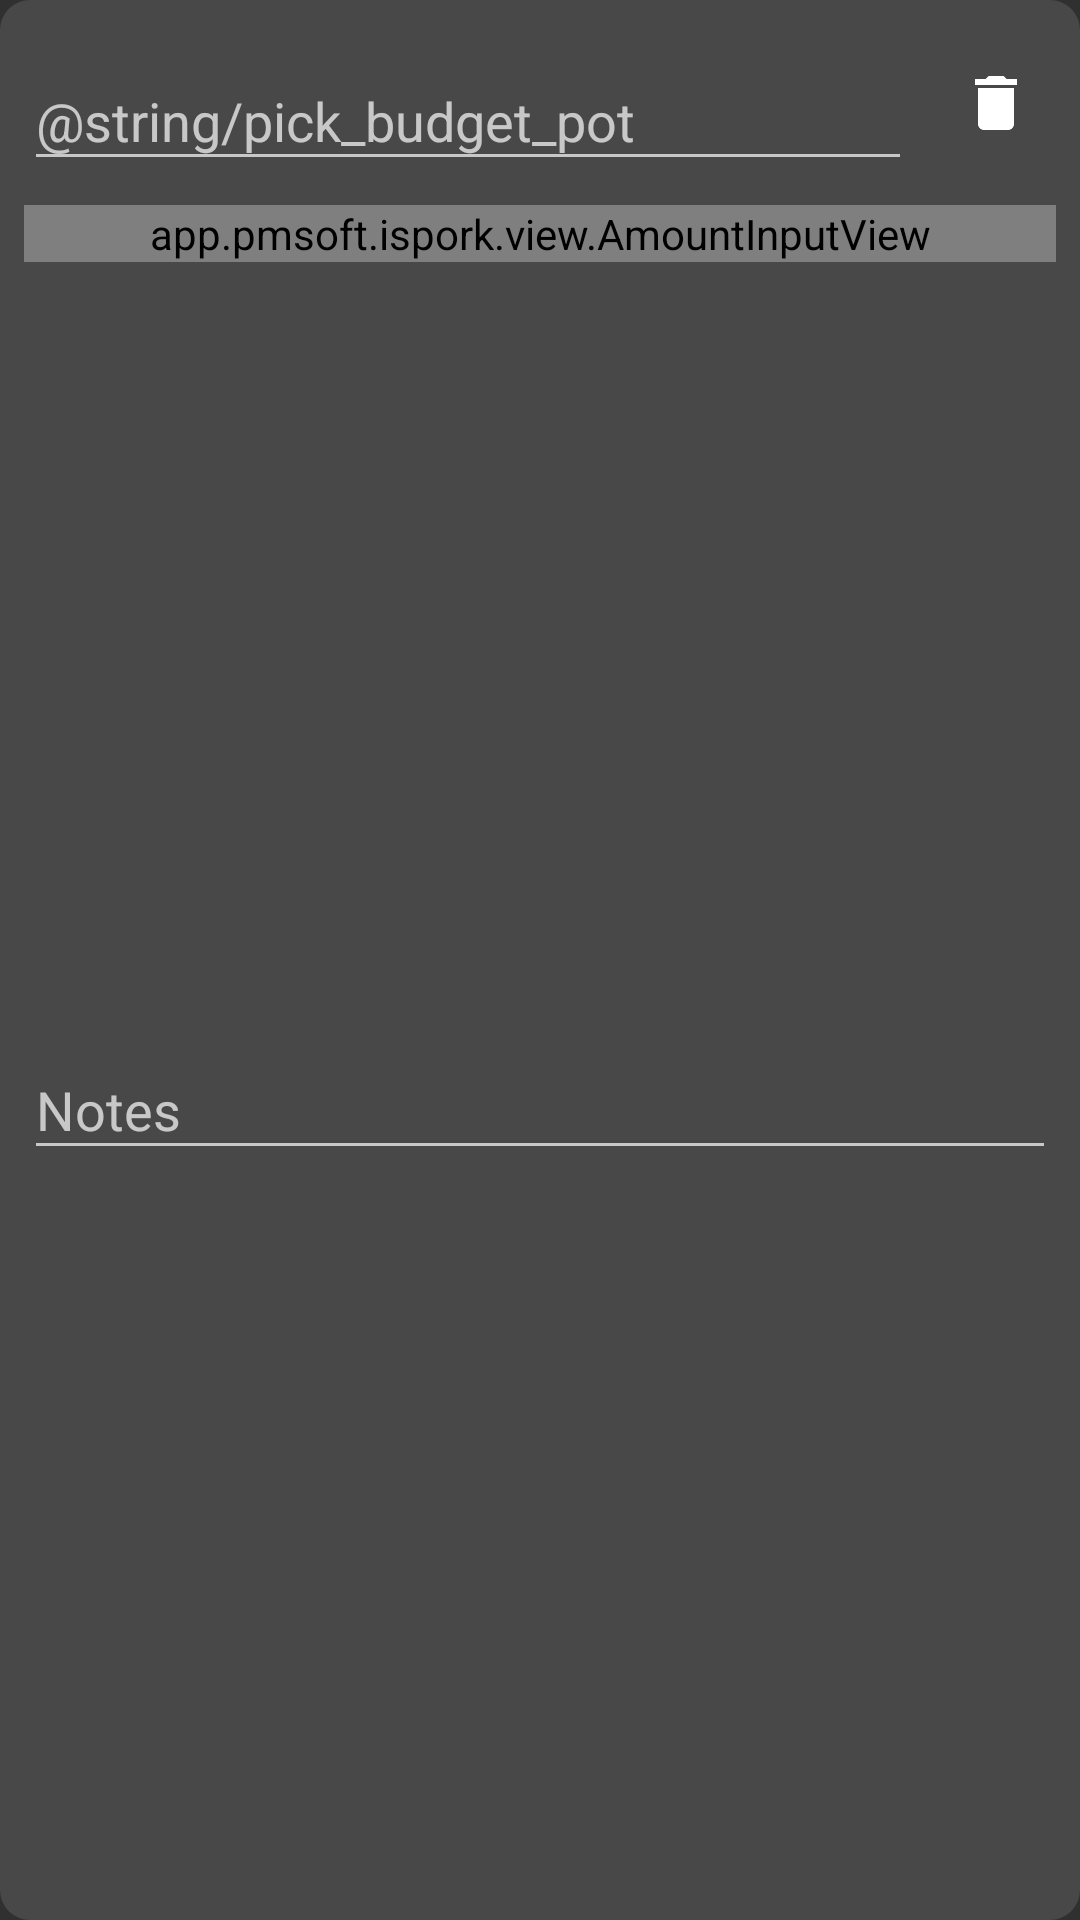

Named icons in this screenshot (1080px×1920px) and their centers, [x,y]:
Delete: [996,103]
